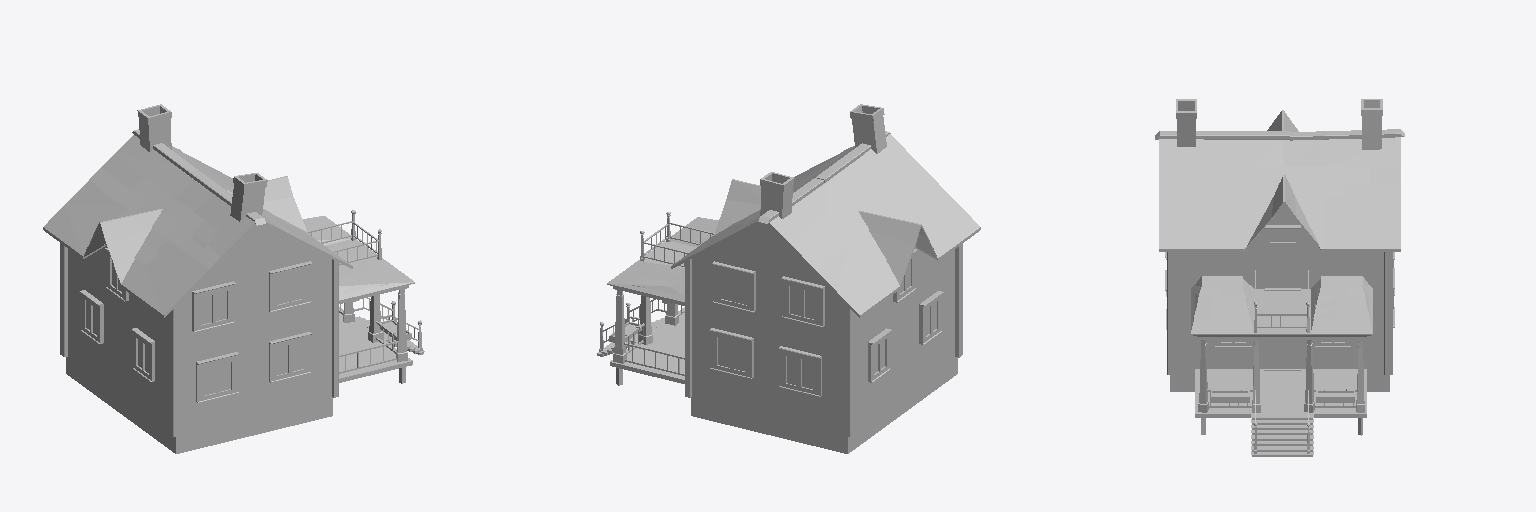
Rendered from House.obj.
The picture shows the model from 3 angles: view 1: azimuth 30°, elevation 25°; view 2: azimuth 150°, elevation 25°; view 3: azimuth 270°, elevation 25°; orthographic projection.
Visible parts, largest first — view 1: maison_final.001; view 2: maison_final.001; view 3: maison_final.001.
Part boxes in pixels (left/top/right/bottom): maison_final.001: left=43, top=104, right=424, bottom=453; maison_final.001: left=597, top=104, right=980, bottom=453; maison_final.001: left=1155, top=99, right=1404, bottom=456.
Size of the model in its own units: 29.11 by 22.56 by 20.35.